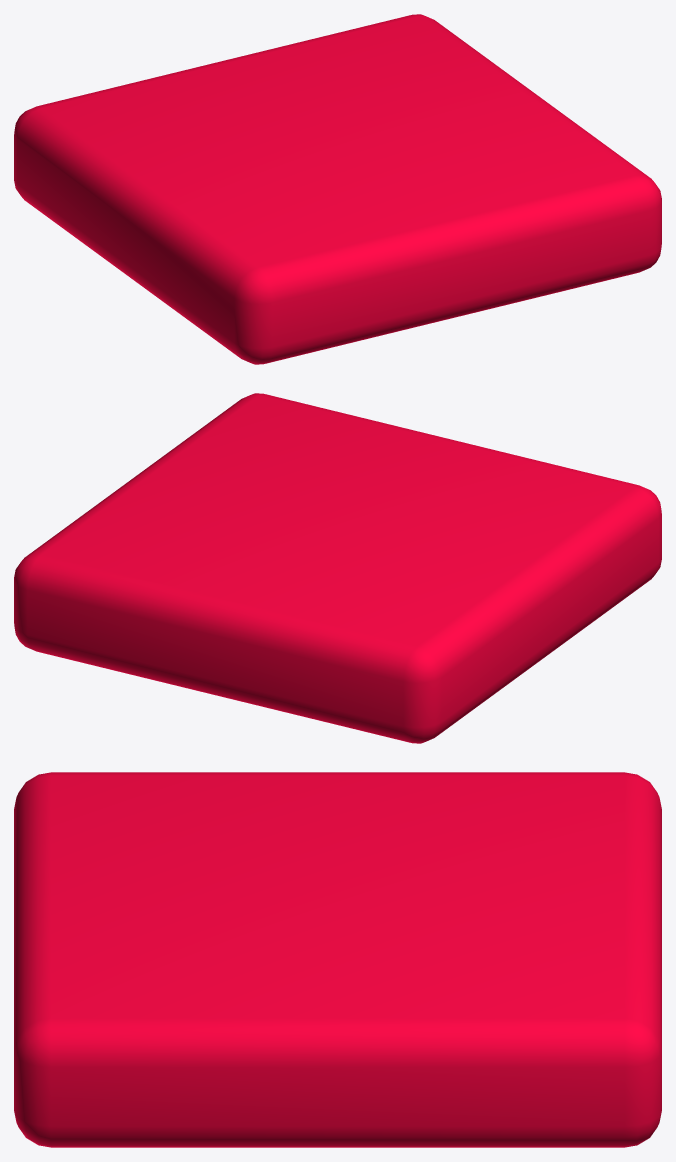
3 views of the same model, one above another, from view 1: azimuth 30°, elevation 25°; view 2: azimuth 150°, elevation 25°; view 3: azimuth 270°, elevation 25° (orthographic). The views are drawn at different scales.
Parts seen in each view (by area): view 1: Roundcube; view 2: Roundcube; view 3: Roundcube.
Boxes of the visible parts, x1,y1,x2,y2 form: Roundcube: [14, 14, 661, 364]; Roundcube: [14, 393, 661, 743]; Roundcube: [14, 772, 661, 1147].
Bounding box in the file's own units: 140 × 30 × 140.
